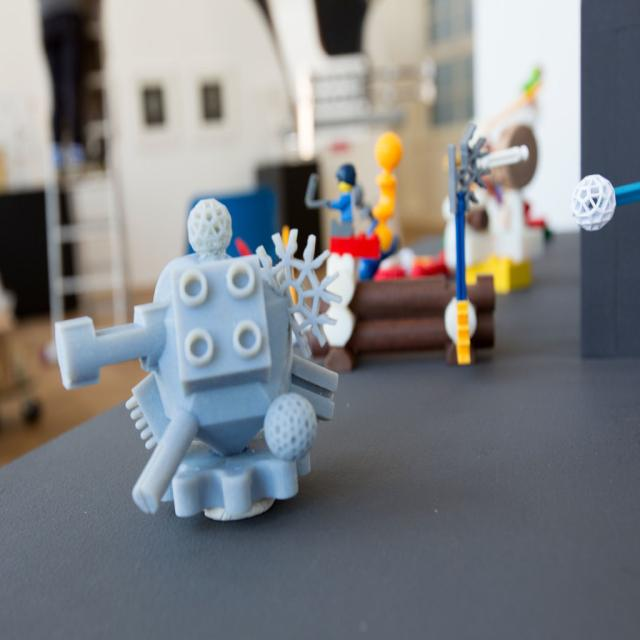Toy: (54, 65, 640, 519)
